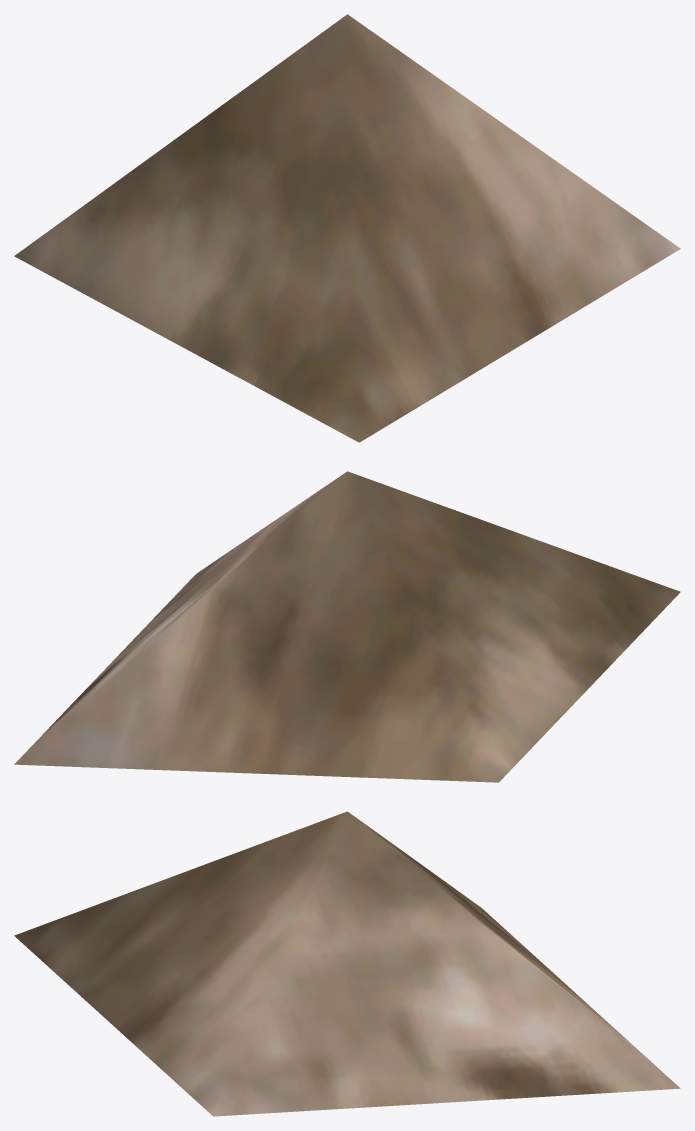
The model's file is OVERHILL_A_01_PLANE09.fbx.
The picture shows the model from 3 angles, top to bottom: view 1: azimuth 30°, elevation 25°; view 2: azimuth 150°, elevation 25°; view 3: azimuth 270°, elevation 25°; orthographic projection. The views are drawn at different scales.
Visible parts, largest first — view 1: OVERHILL_A_01_PLANE09; view 2: OVERHILL_A_01_PLANE09; view 3: OVERHILL_A_01_PLANE09.
Boxes of the visible parts, bbox=[...] form: OVERHILL_A_01_PLANE09: bbox=[14, 14, 680, 442]; OVERHILL_A_01_PLANE09: bbox=[14, 471, 680, 782]; OVERHILL_A_01_PLANE09: bbox=[14, 811, 680, 1116].
Size of the model in its own units: 1254 by 562 by 1693.
1 material, 1 textured.
